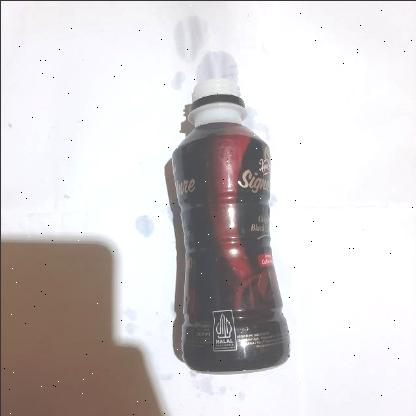Plastic Bottle: (154, 63, 304, 375)
